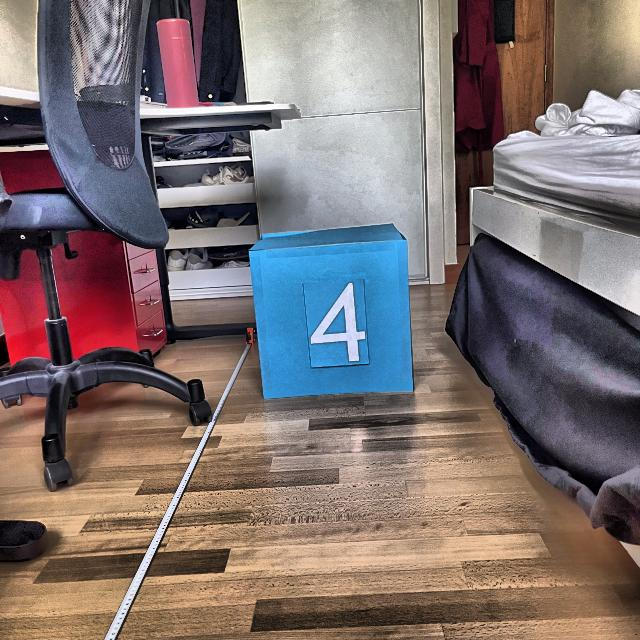blue box: (247, 220, 419, 401)
four: (306, 279, 368, 365)
